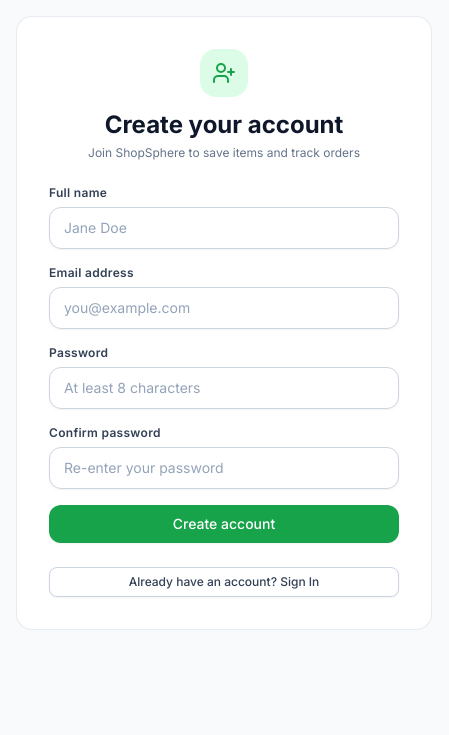
Test: Register form › validates required fields and password confirmation
Step 1. Click the button "Create account" → (224, 524), box [49,505,399,543]
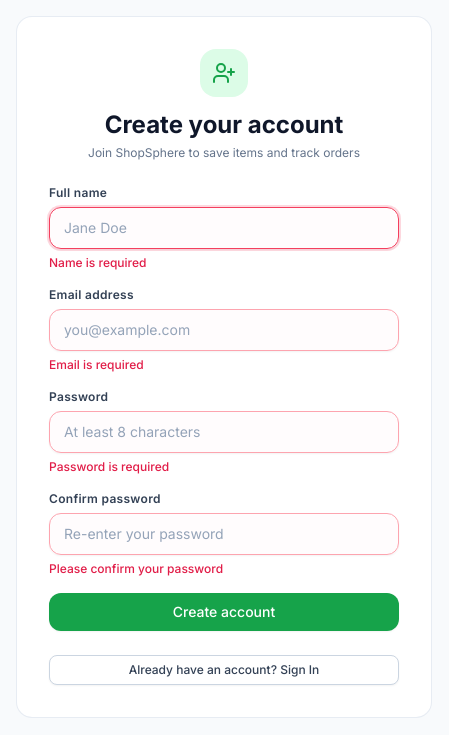
Check: the text "Name is required" is shown, box [49,255,146,270]
Check: the text "Email is required" is shown, box [49,357,144,372]
Check: the text "Password is required" is shown, box [49,459,169,474]
Step 2. Type "Ada" into the field labelled "Full name" → (224, 228), box [49,207,399,249]
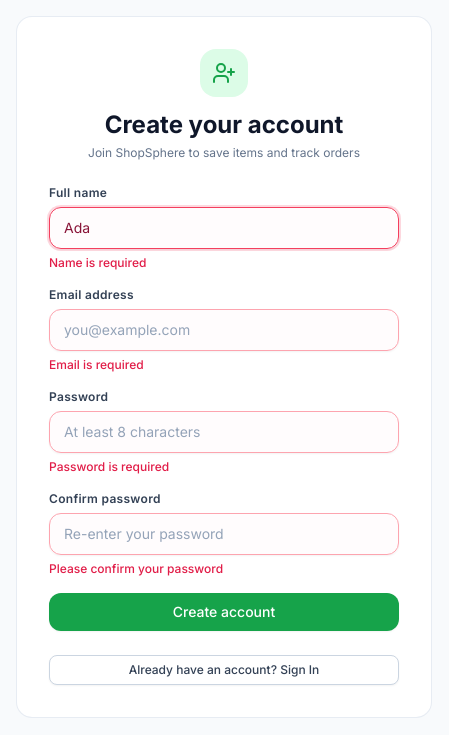
Step 3. Type "invalid-email" into the field labelled "Email address" → (224, 330), box [49,309,399,351]
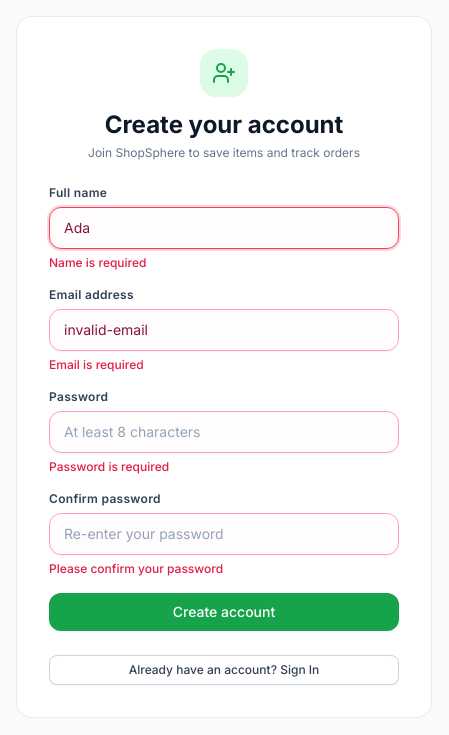
Step 4. Type "123" into the password field labelled "Password" → (224, 432), box [49,411,399,453]
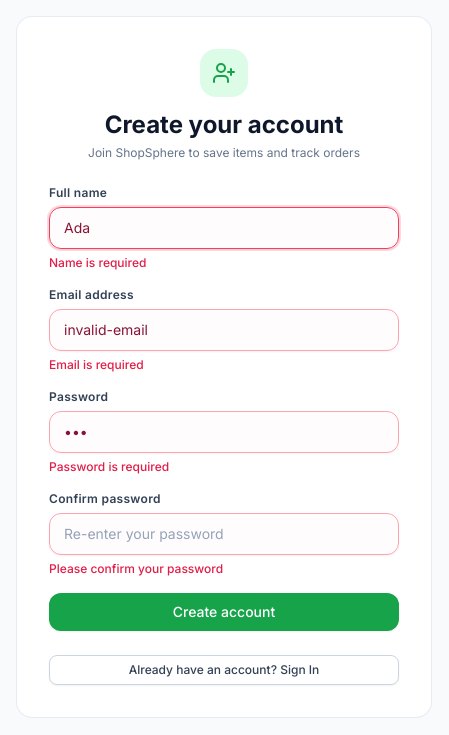
Step 5. Type "456" into the password field labelled "Confirm password" → (224, 534), box [49,513,399,555]
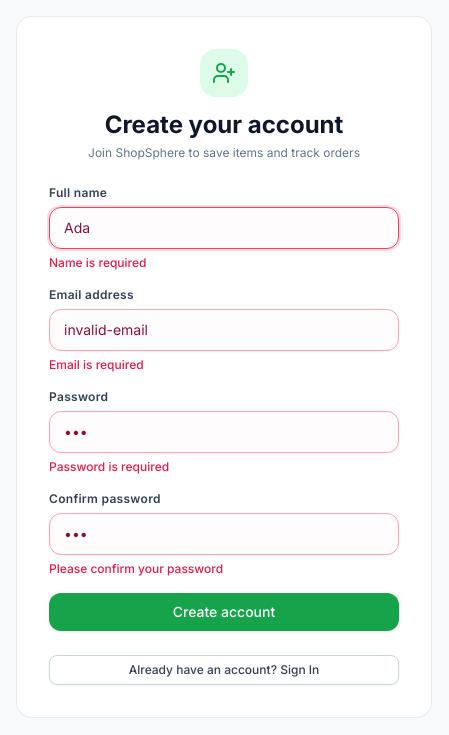
Step 6. Click the button "Create account" → (224, 612), box [49,593,399,631]
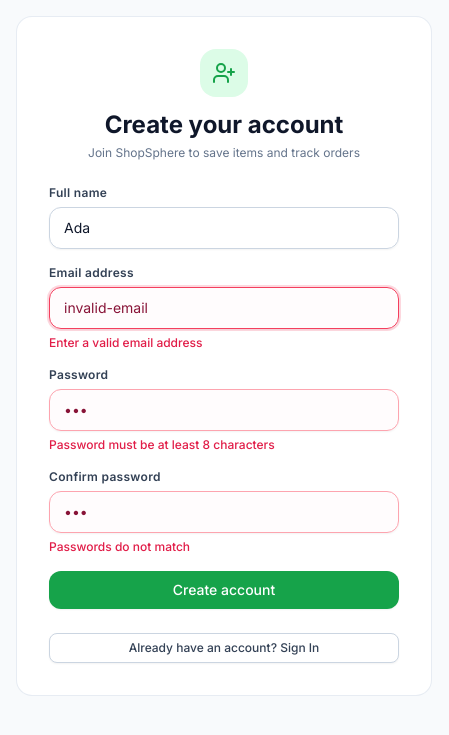
Check: the text "Enter a valid email address" is shown, box [49,335,202,350]
Check: the text "Password must be at least 8 characters" is shown, box [49,437,275,452]
Check: the text "Passwords do not match" is shown, box [49,539,190,554]
